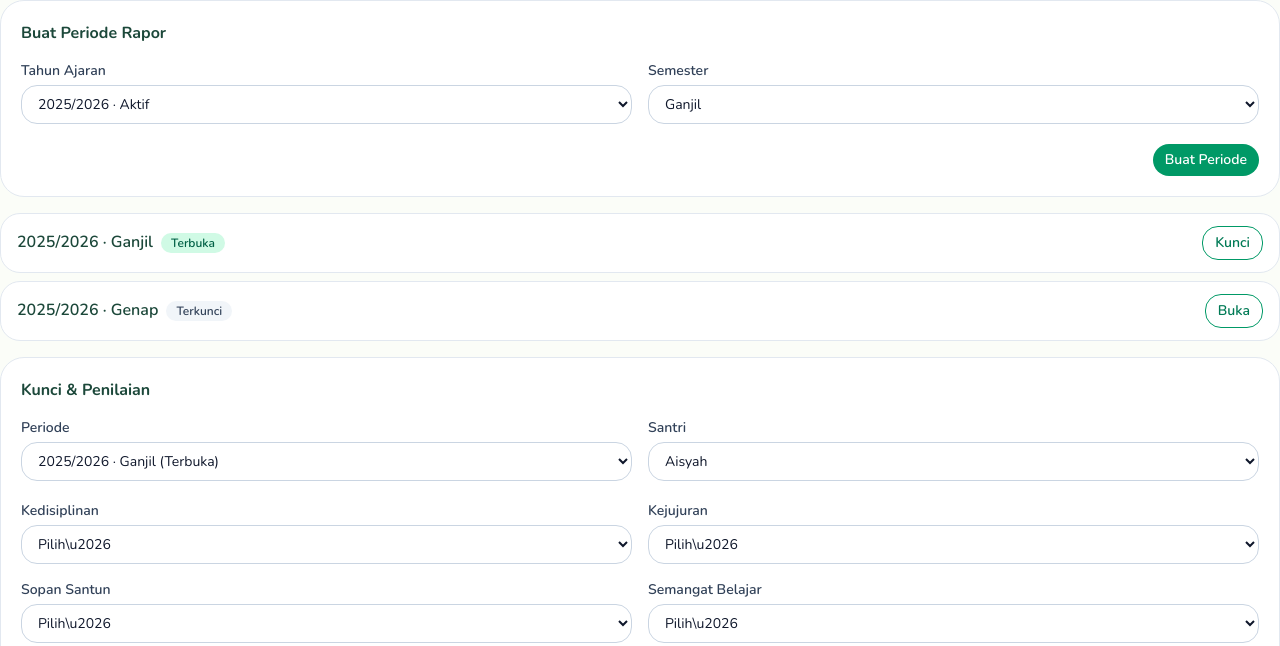
RaporBuilder › PAUD student shows the Narasi Perkembangan textarea and no adab pickers
Select "Bilal" in the dropdown labelled "Santri" at (954, 462), box [648, 442, 1259, 481]
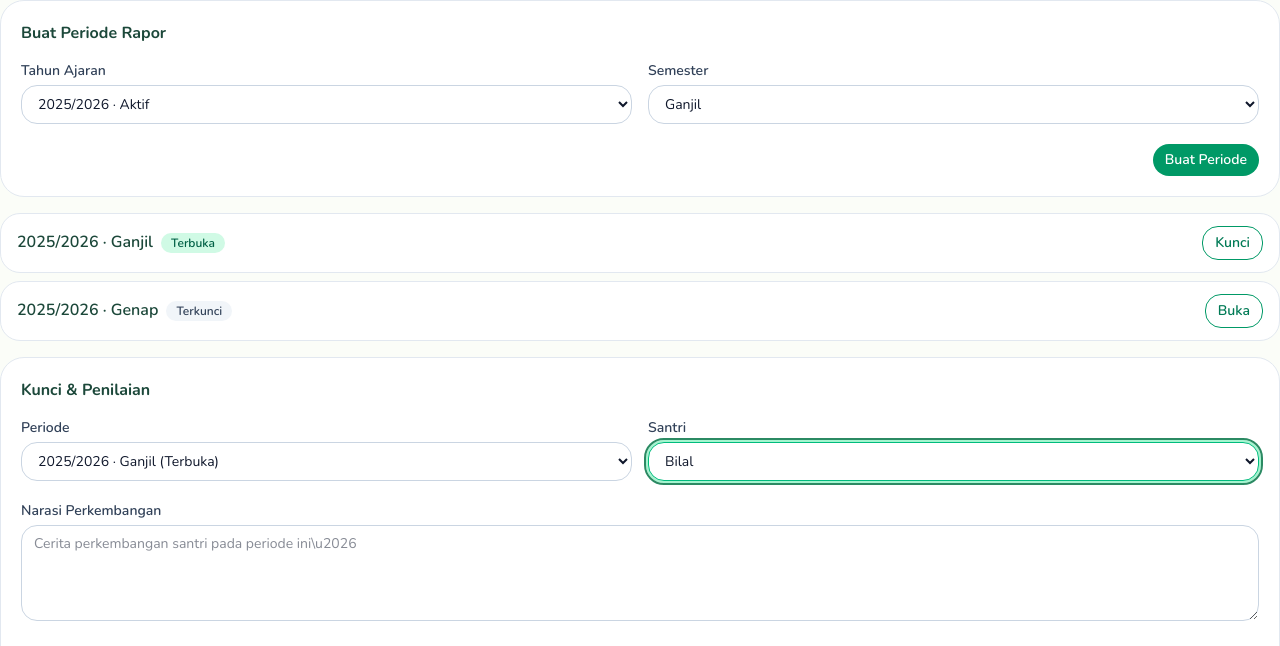
Now the text box labelled "Narasi Perkembangan" is shown, box [21, 525, 1259, 621]
Now the label labelled "Kedisiplinan" is gone
Now the label labelled "Kejujuran" is gone
